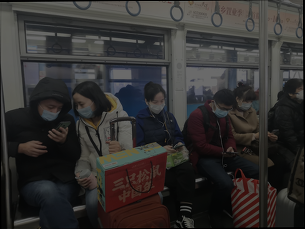with_mask: (73, 99, 97, 121), (39, 100, 62, 122), (149, 96, 167, 115), (213, 104, 232, 120), (239, 98, 252, 112), (293, 86, 304, 100)
